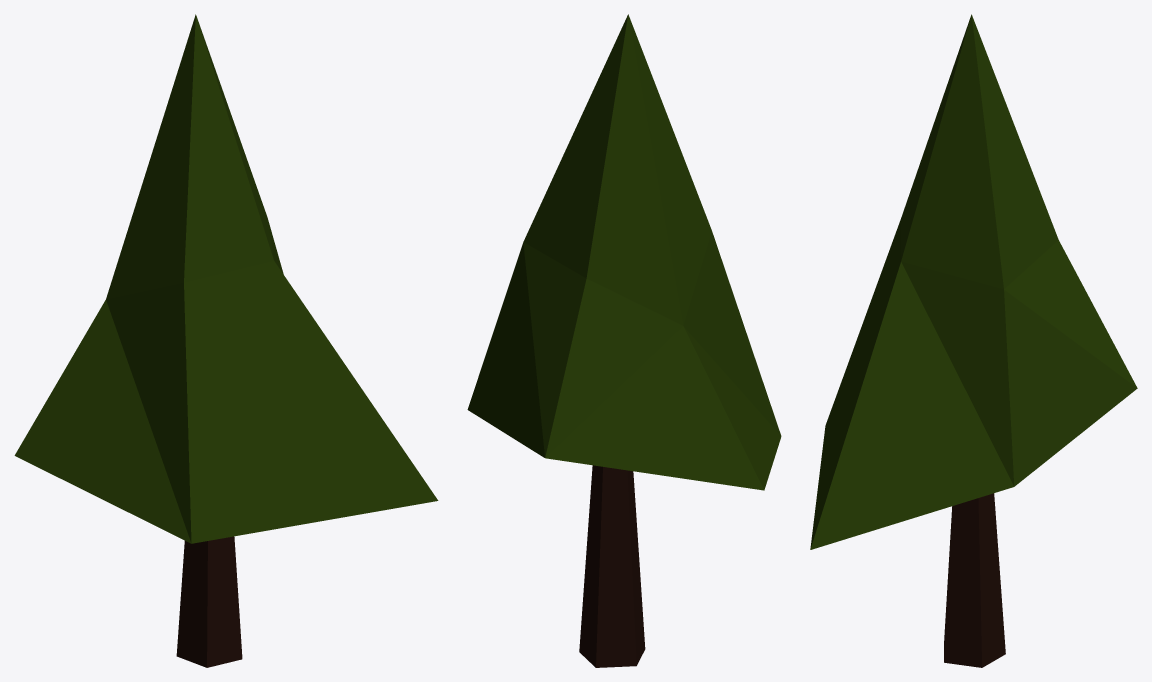
File: Hemp1.fbx.glb
The picture shows the model from 3 angles, left to right: view 1: azimuth 30°, elevation 25°; view 2: azimuth 150°, elevation 25°; view 3: azimuth 270°, elevation 25°; orthographic projection.
Parts seen in each view (by area): view 1: Hemp1; view 2: Hemp1; view 3: Hemp1.
Boxes of the visible parts, box(x1,y1,x2,y2) form: Hemp1: box(14, 14, 438, 667); Hemp1: box(467, 14, 781, 667); Hemp1: box(810, 14, 1137, 667).
Bounding box in the file's own units: 18.84 × 36.26 × 17.
